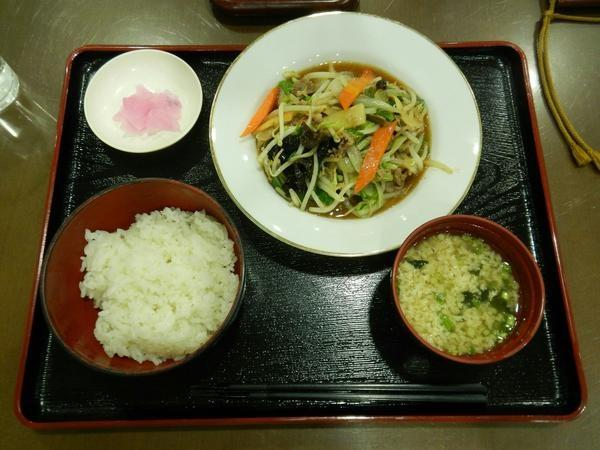plate: (44, 178, 242, 376)
rice: (79, 208, 238, 364)
